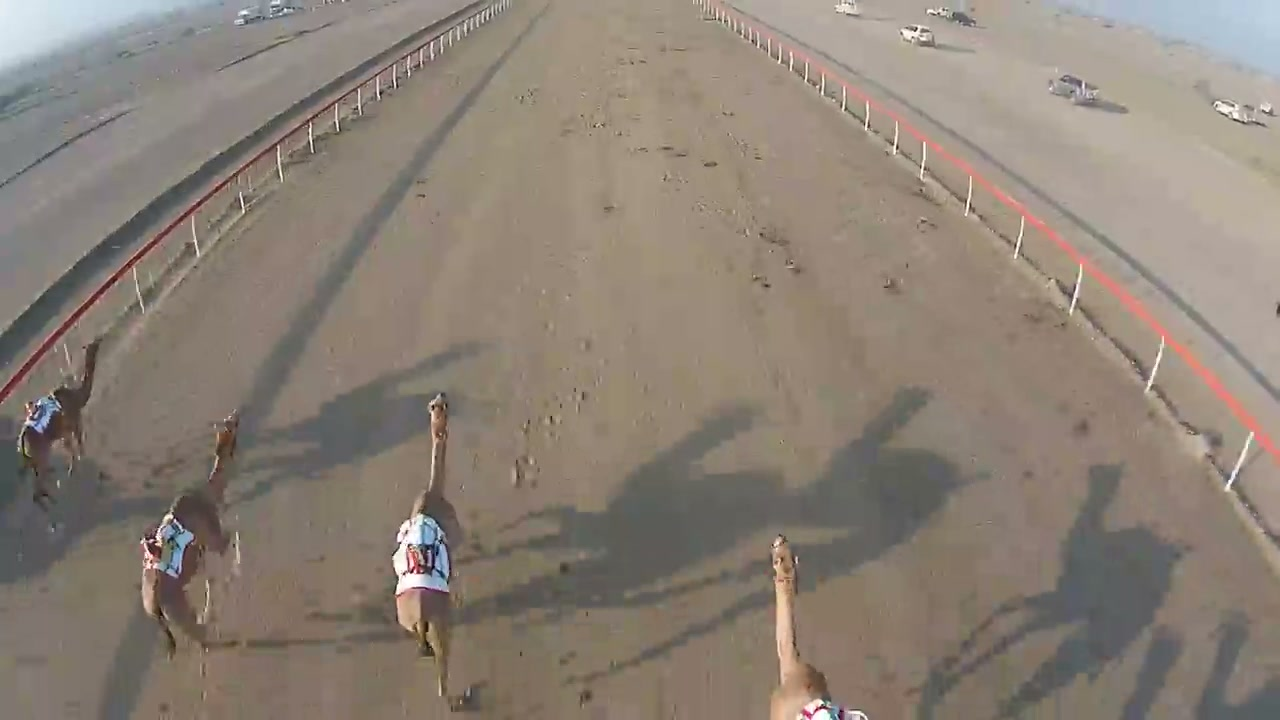animal_foot_print: (497, 366, 613, 511), (140, 646, 257, 711)
